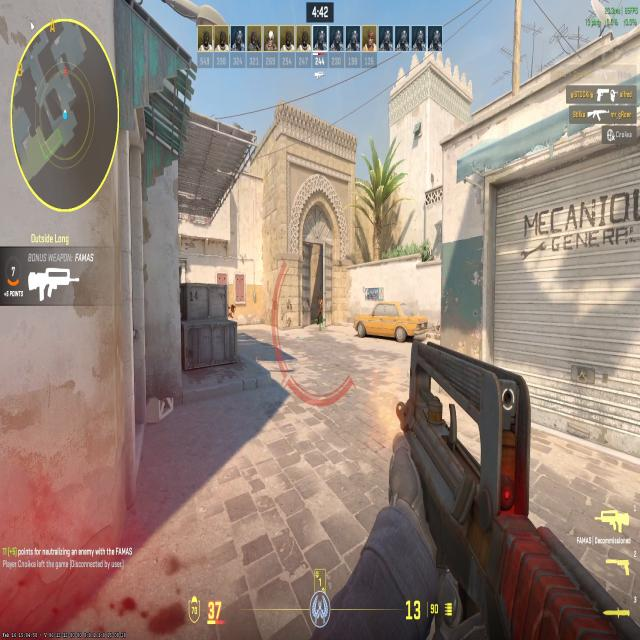player: (315, 293, 325, 329)
